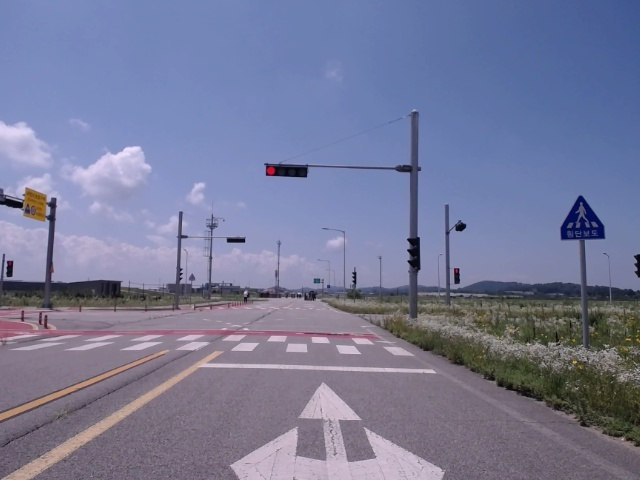red_4: (265, 165, 308, 178)
